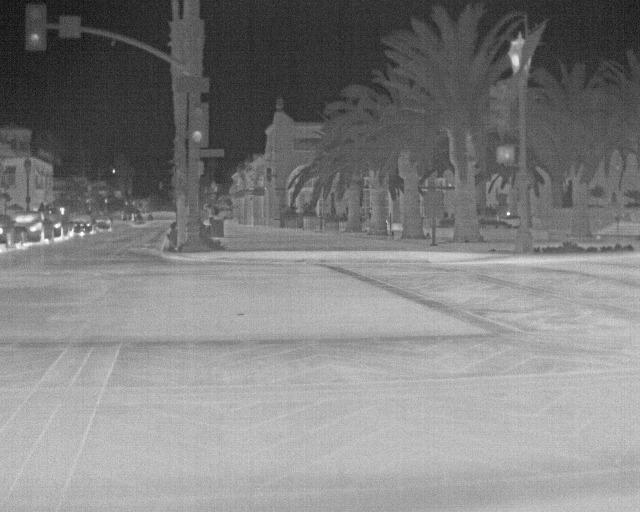car: (13, 211, 53, 245), (0, 213, 27, 250), (42, 210, 70, 240), (70, 214, 93, 235), (93, 215, 112, 232)
light: (489, 85, 509, 131), (28, 8, 43, 45), (192, 107, 205, 144), (496, 146, 513, 165)
sign: (177, 76, 209, 93), (59, 15, 80, 39), (195, 149, 224, 157)
